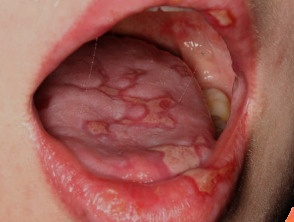SJS-TEN: (31, 0, 247, 203)
